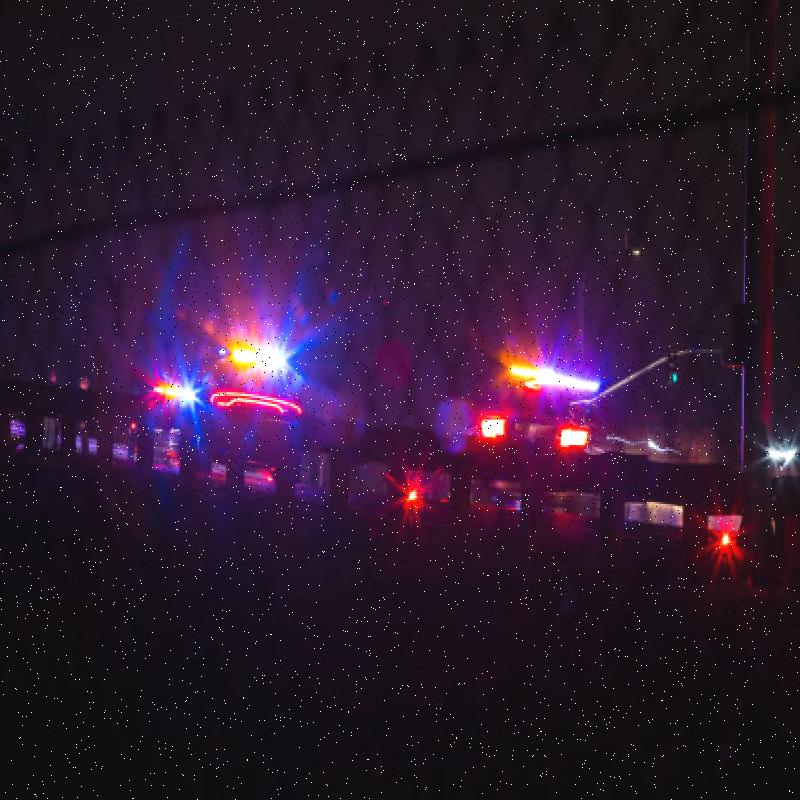AmbulanceSiren: (498, 338, 601, 412)
